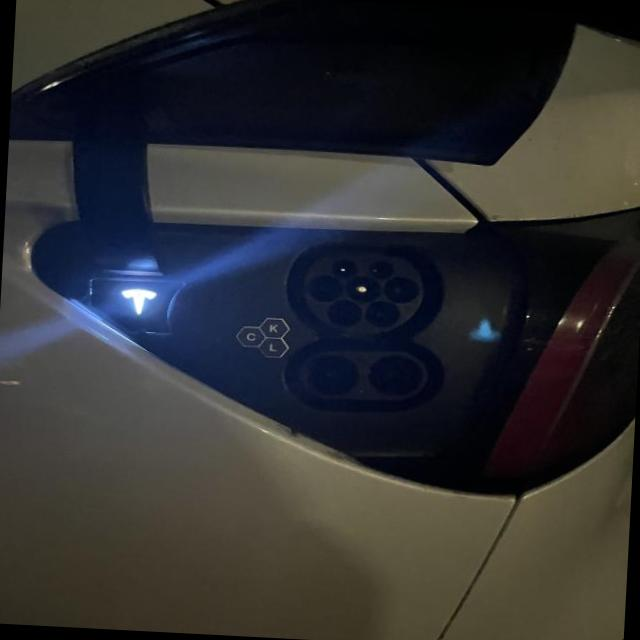inlet: (304, 254, 424, 334)
inlet-above-left: (330, 259, 357, 277)
inlet-above-right: (369, 260, 394, 278)
inlet-below-left: (328, 300, 362, 326)
inlet-below-right: (365, 301, 400, 327)
inlet-center: (347, 276, 380, 303)
inlet-center-left: (308, 275, 343, 302)
inlet-center-right: (383, 277, 418, 303)
